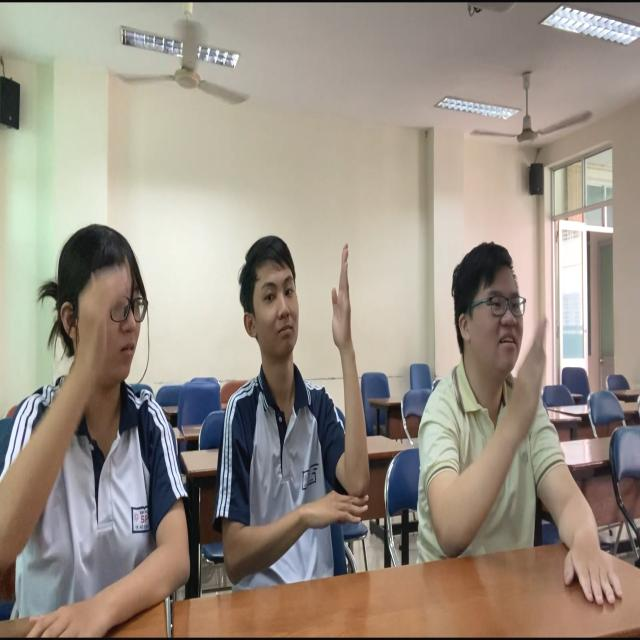raise_hand: (421, 204, 640, 640), (202, 210, 391, 607)
